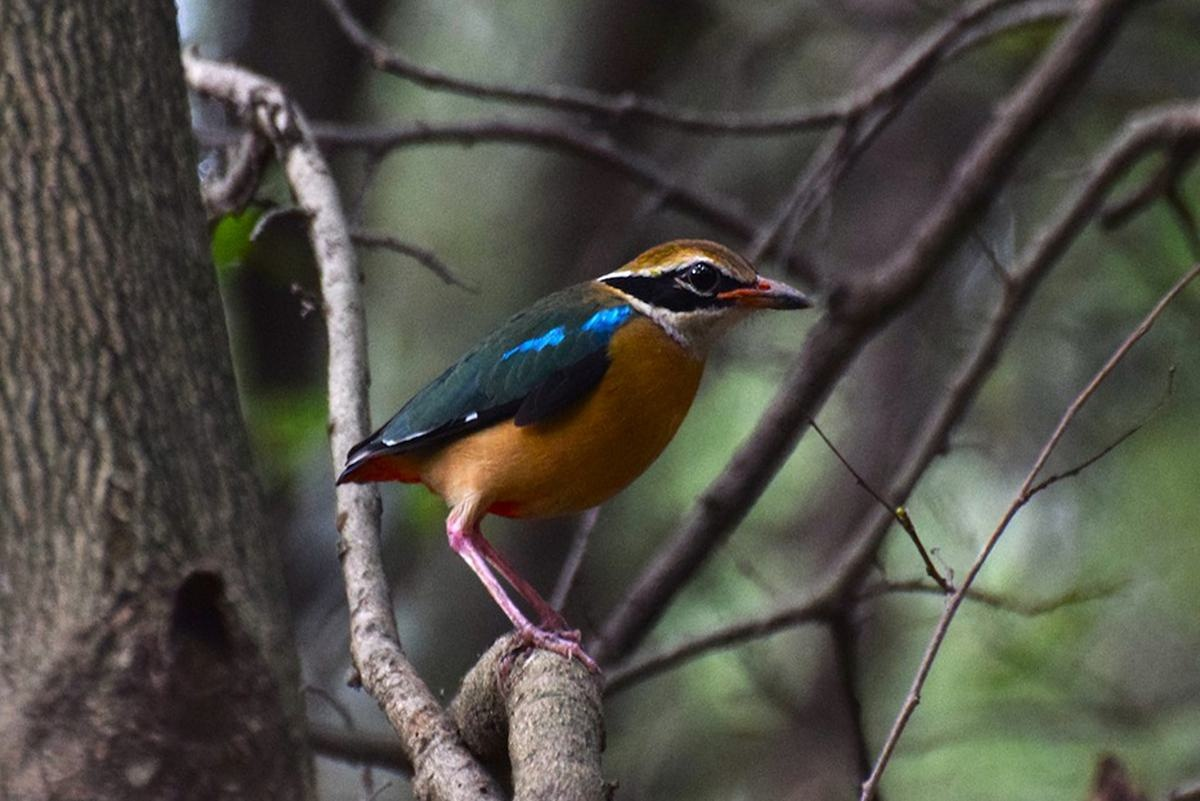pitta: (346, 223, 838, 658)
